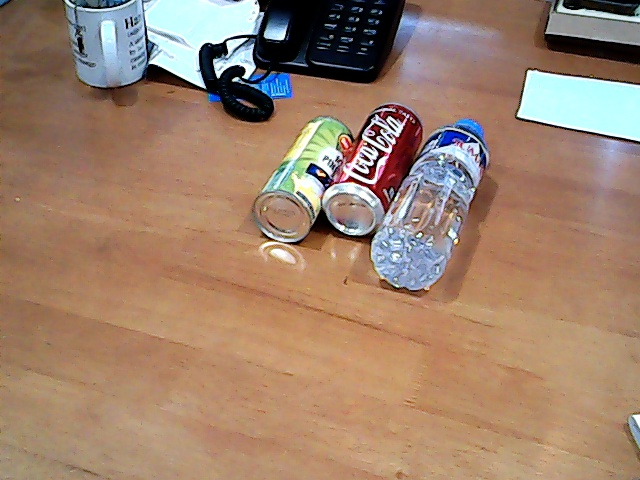Cola: (317, 94, 428, 235)
Pine Juice: (248, 104, 347, 245)
Summit Water: (365, 106, 499, 313)
